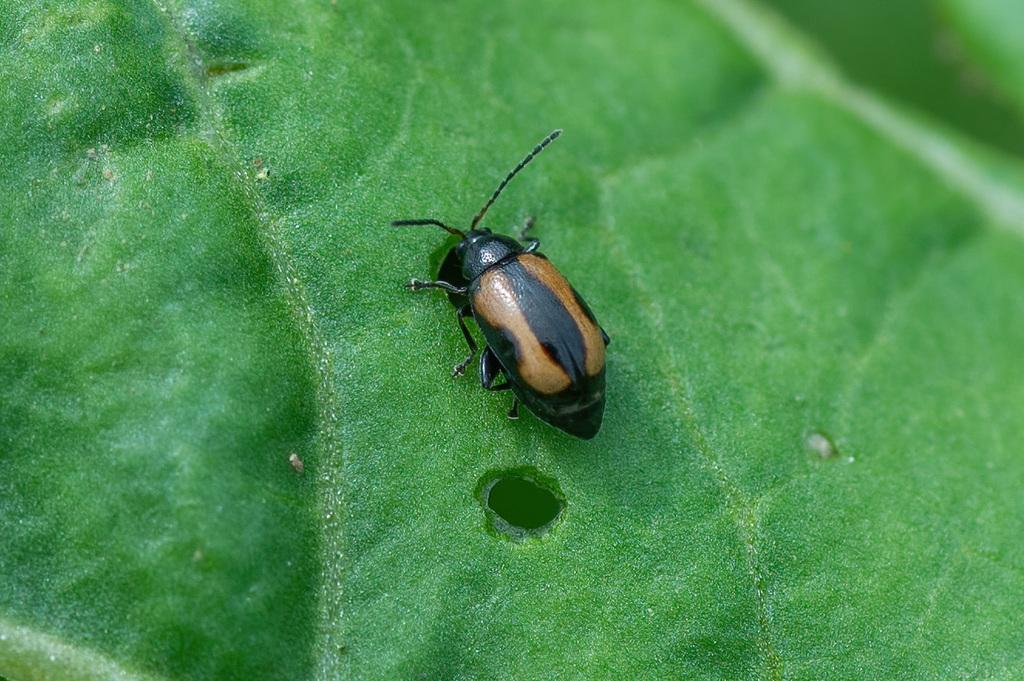flea_beetle: (345, 98, 680, 463)
